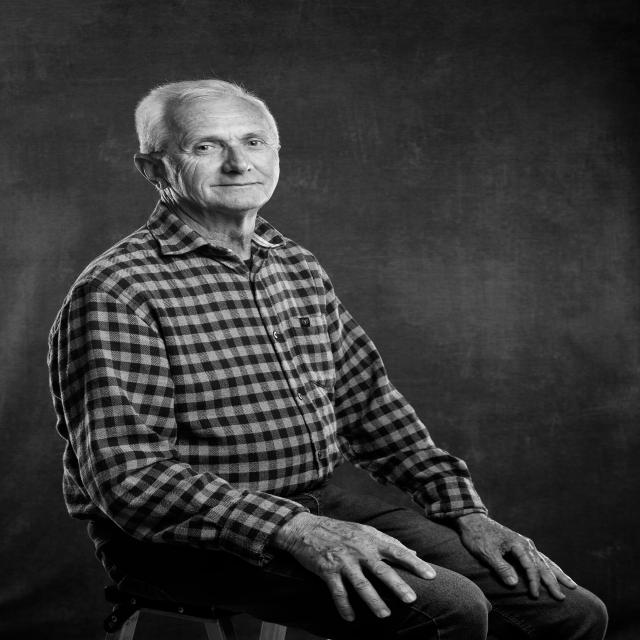human: (40, 69, 619, 640)
